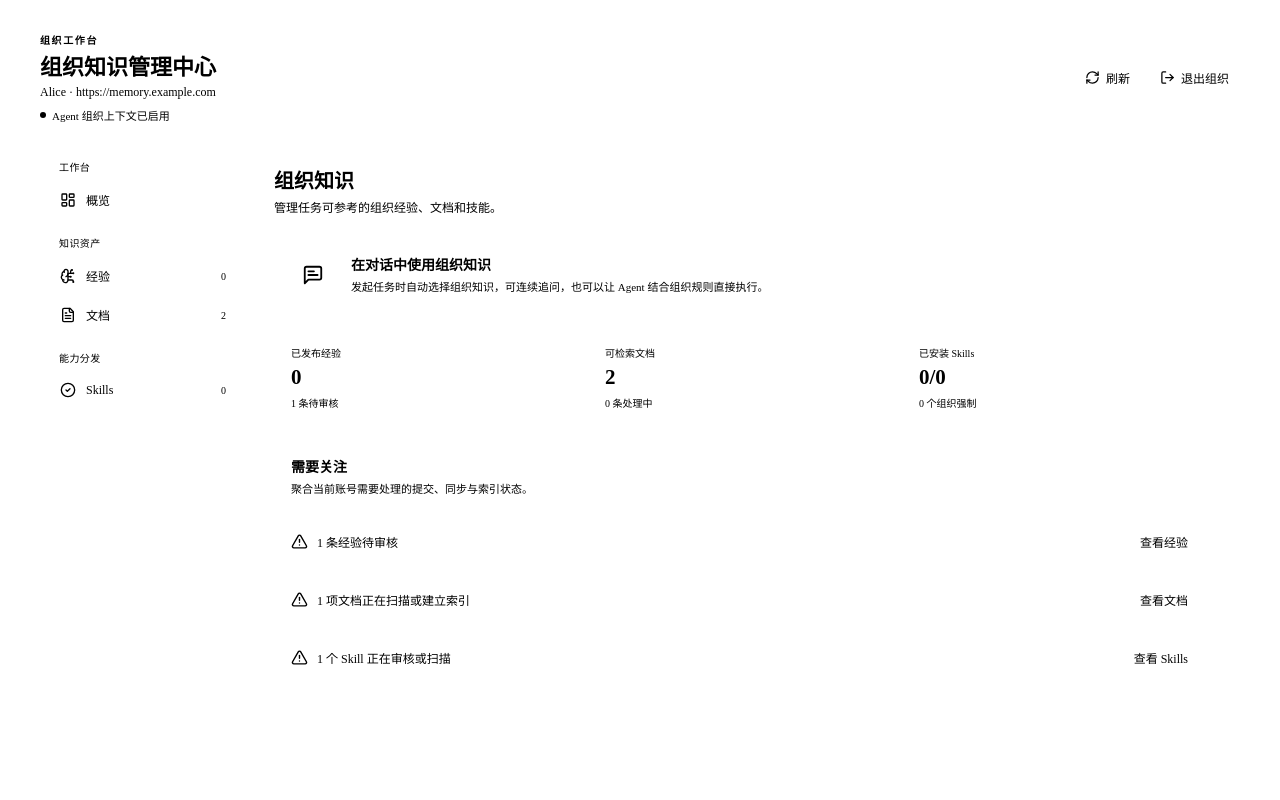
Test: OrganizationMemoryPanel › 概览按待处理类型展示并导航到正确工作区
The image size is (1280, 800).
Expected: the text "1 条经验待审核" is shown, top-left (317, 536), bottom-right (398, 550)
Expected: the text "1 项文档正在扫描或建立索引" is shown, top-left (317, 594), bottom-right (470, 608)
Click the button "查看经验" at {"x": 1164, "y": 542}, box top-left (1129, 526), bottom-right (1199, 558)
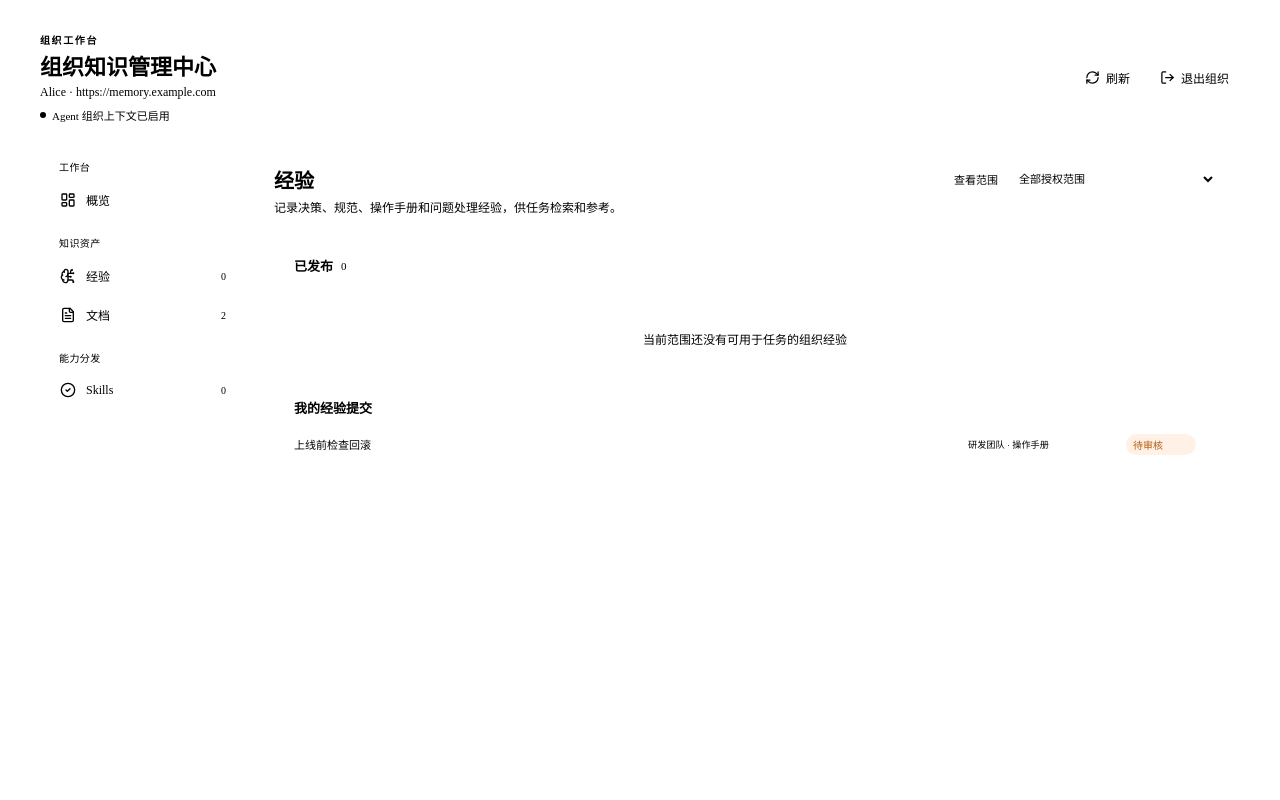
Result: the heading "经验" is shown at top-left (274, 170), bottom-right (314, 192)
Click the button "概览" at {"x": 143, "y": 200}, box top-left (50, 182), bottom-right (236, 218)
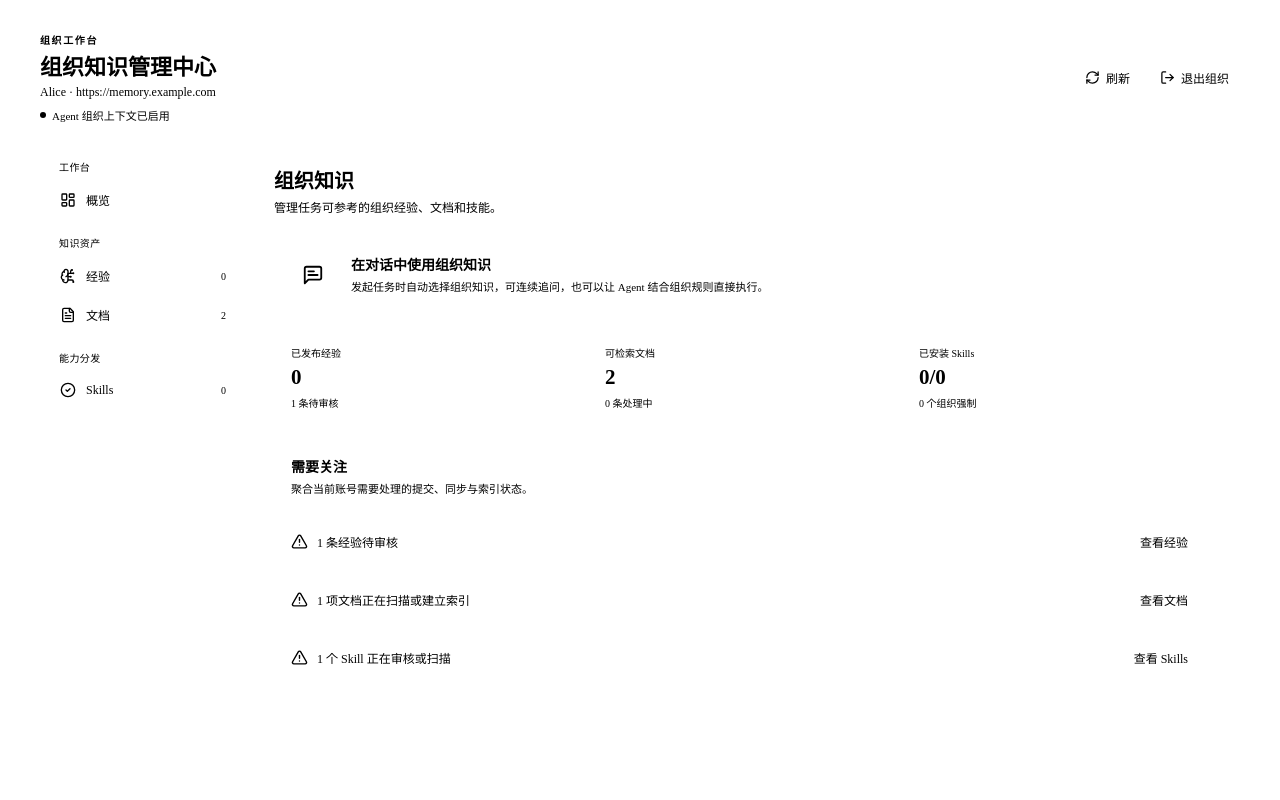
Click the button "查看文档" at {"x": 1164, "y": 600}, box top-left (1129, 584), bottom-right (1199, 616)
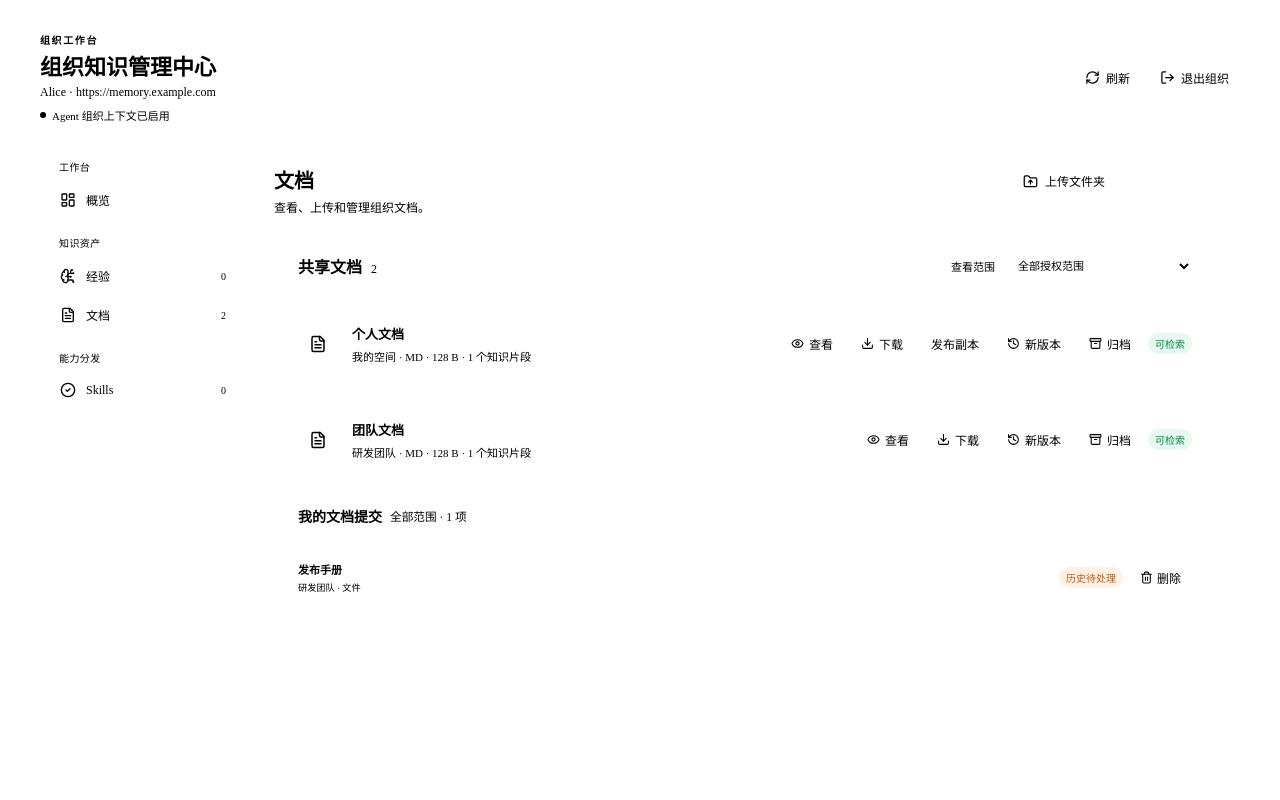
Result: the heading "文档" is shown at top-left (274, 170), bottom-right (314, 192)
Click the button "概览" at {"x": 143, "y": 200}, box top-left (50, 182), bottom-right (236, 218)
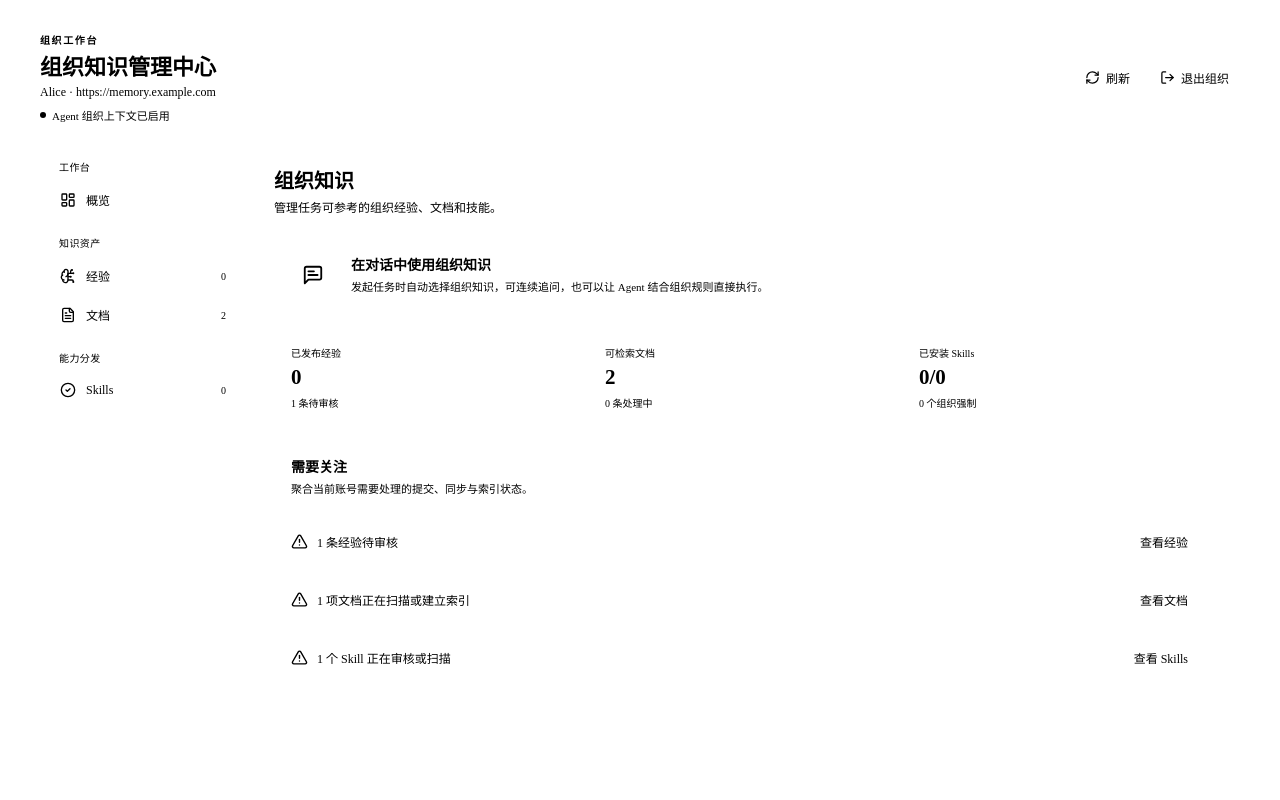
Click the button "查看 Skills" at {"x": 1161, "y": 658}, box top-left (1123, 642), bottom-right (1199, 674)
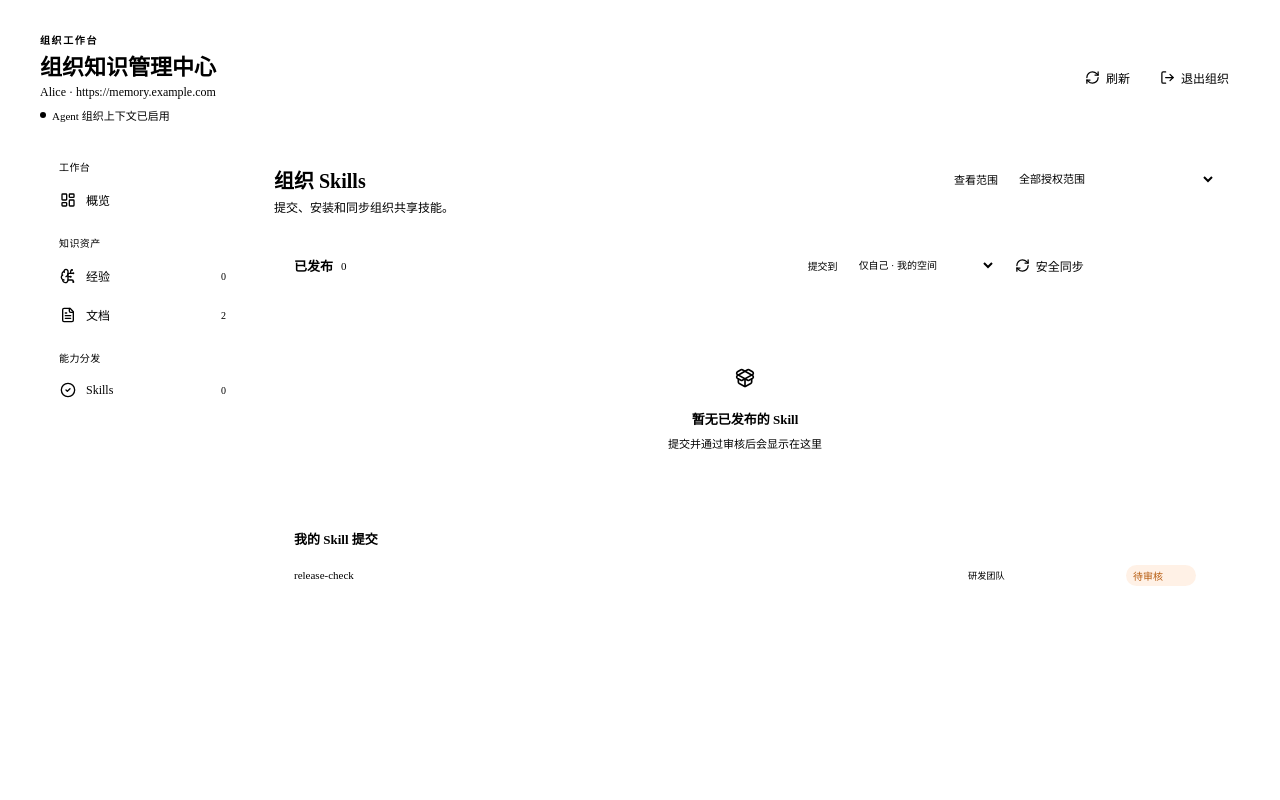
Result: the heading "组织 Skills" is shown at top-left (274, 170), bottom-right (366, 192)
